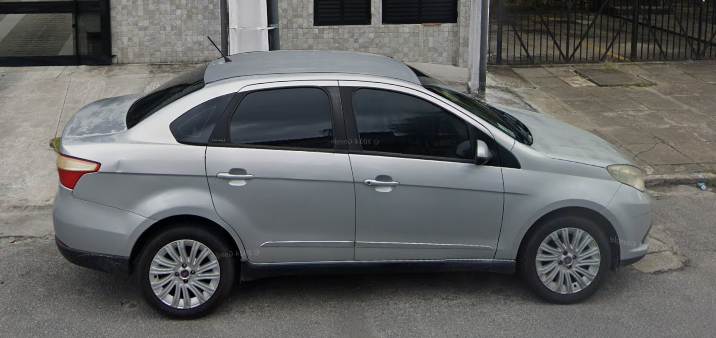car: (48, 47, 655, 328)
